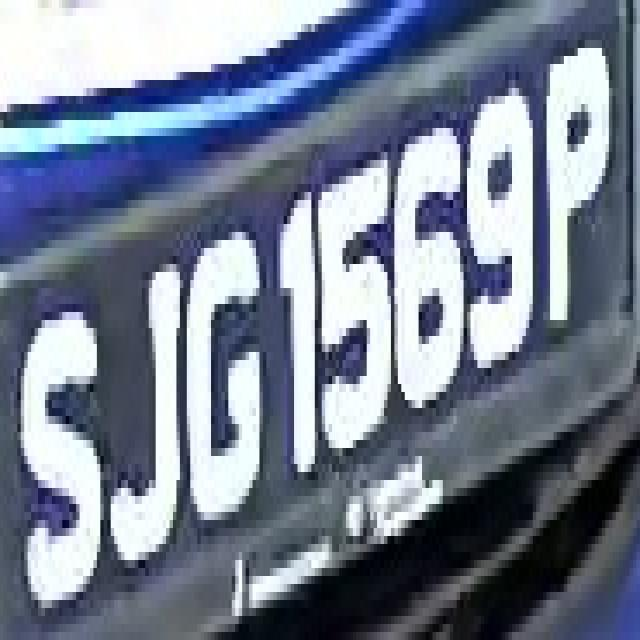1: (270, 184, 318, 512)
5: (311, 152, 398, 456)
6: (394, 128, 474, 408)
9: (460, 72, 543, 376)
G: (187, 208, 266, 536)
J: (100, 264, 190, 584)
P: (547, 24, 619, 336)
S: (11, 272, 118, 608)
